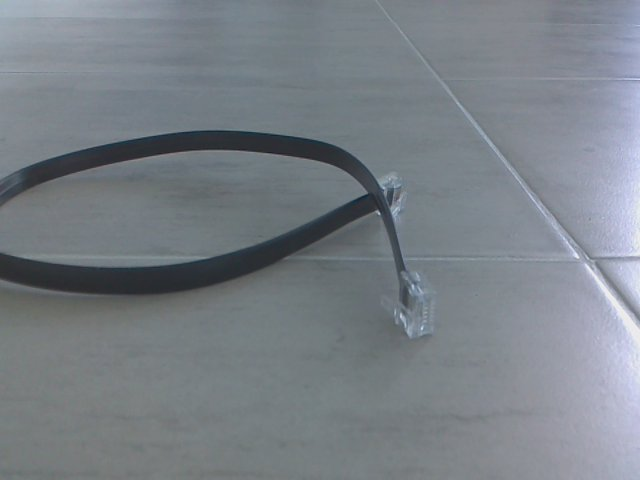Kabel: (5, 125, 438, 343)
